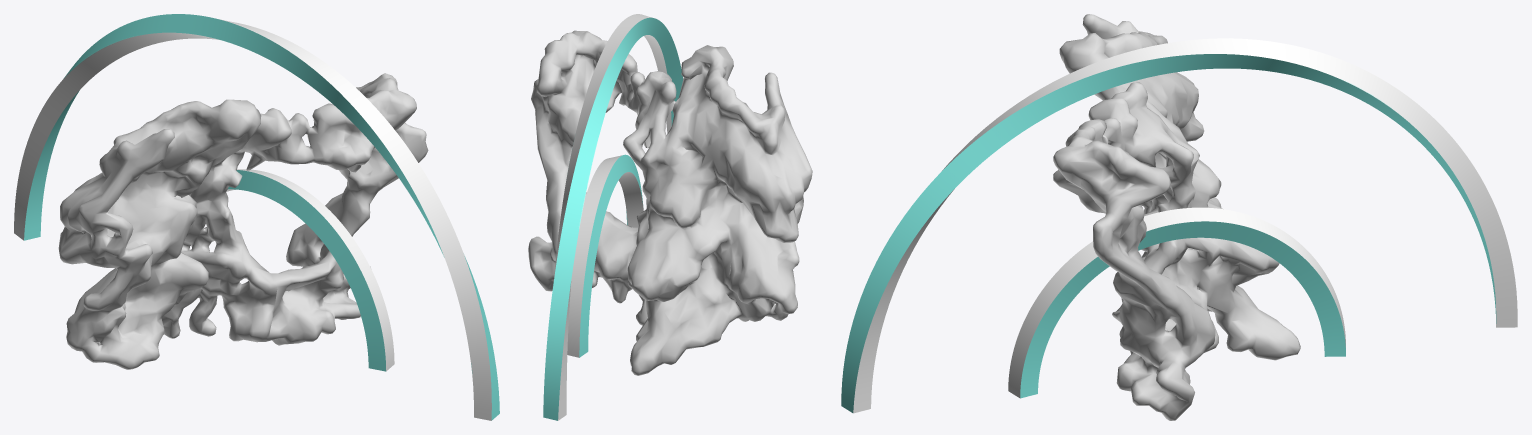
File: SLS_201217_cables_szene.glb
3 views of the same model, side by side, from view 1: azimuth 30°, elevation 25°; view 2: azimuth 150°, elevation 25°; view 3: azimuth 270°, elevation 25° (orthographic). The views are drawn at different scales.
Parts seen in each view (by area): view 1: Volume_Mesher, Sweep_1, Sweep_2; view 2: Volume_Mesher, Sweep_1, Sweep_2; view 3: Volume_Mesher, Sweep_1, Sweep_2.
Part boxes in pixels (left/top/right/bottom): Volume_Mesher: left=58, top=73, right=428, bottom=369; Sweep_1: left=14, top=14, right=499, bottom=420; Sweep_2: left=226, top=169, right=394, bottom=371; Volume_Mesher: left=528, top=30, right=812, bottom=375; Sweep_1: left=543, top=14, right=683, bottom=420; Sweep_2: left=567, top=154, right=643, bottom=357; Volume_Mesher: left=1053, top=14, right=1300, bottom=420; Sweep_1: left=841, top=38, right=1517, bottom=413; Sweep_2: left=1008, top=207, right=1345, bottom=398.
Size of the model in its own units: 9.88 by 9.19 by 16.
2 materials, 2 textured.
